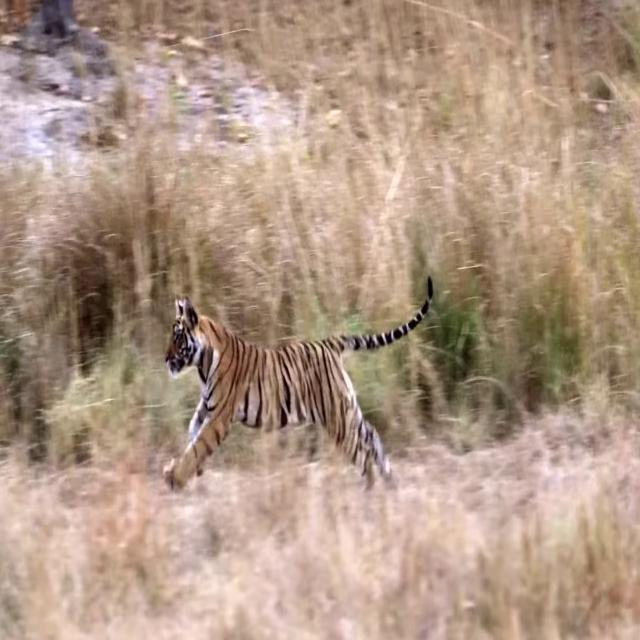tiger: (163, 274, 434, 491)
